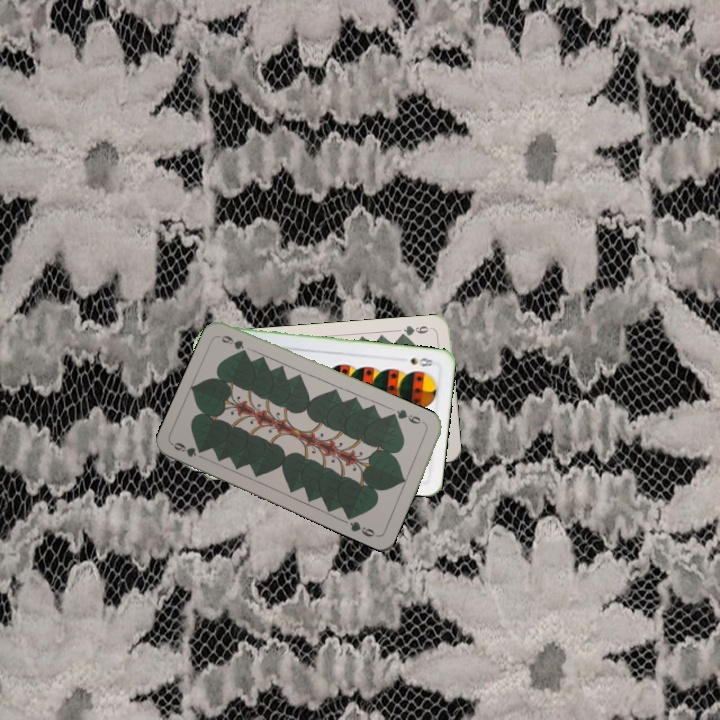G9: (389, 405, 429, 428), (169, 438, 207, 460), (396, 322, 436, 340)
S8: (406, 353, 439, 369)
